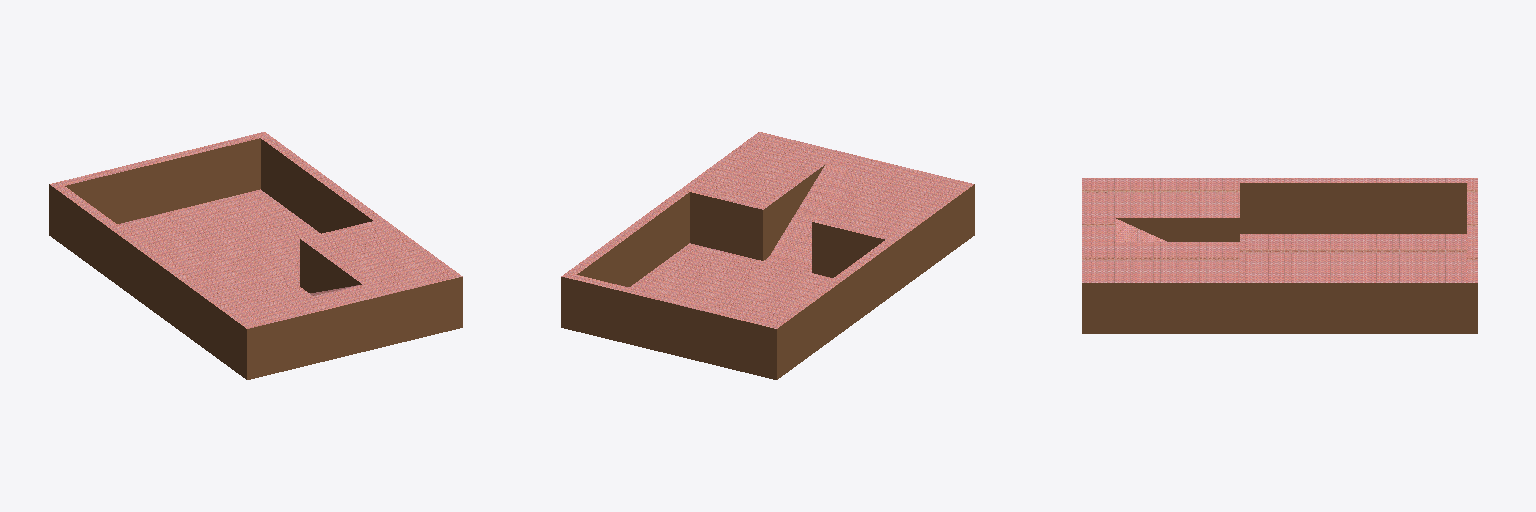
3 renders of one model, left to right at view 1: azimuth 30°, elevation 25°; view 2: azimuth 150°, elevation 25°; view 3: azimuth 270°, elevation 25°, orthographic.
Size of the model in its own units: 22 by 5 by 35.
Materials: 2 (1 with a texture image).